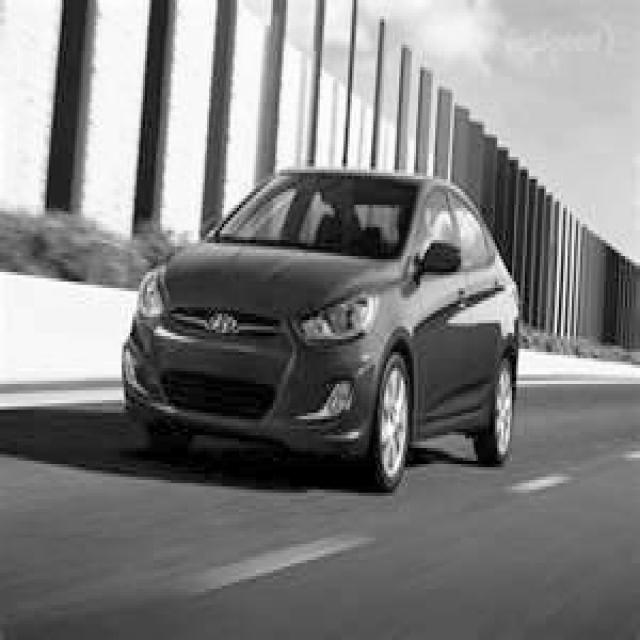car: (120, 163, 518, 493)
